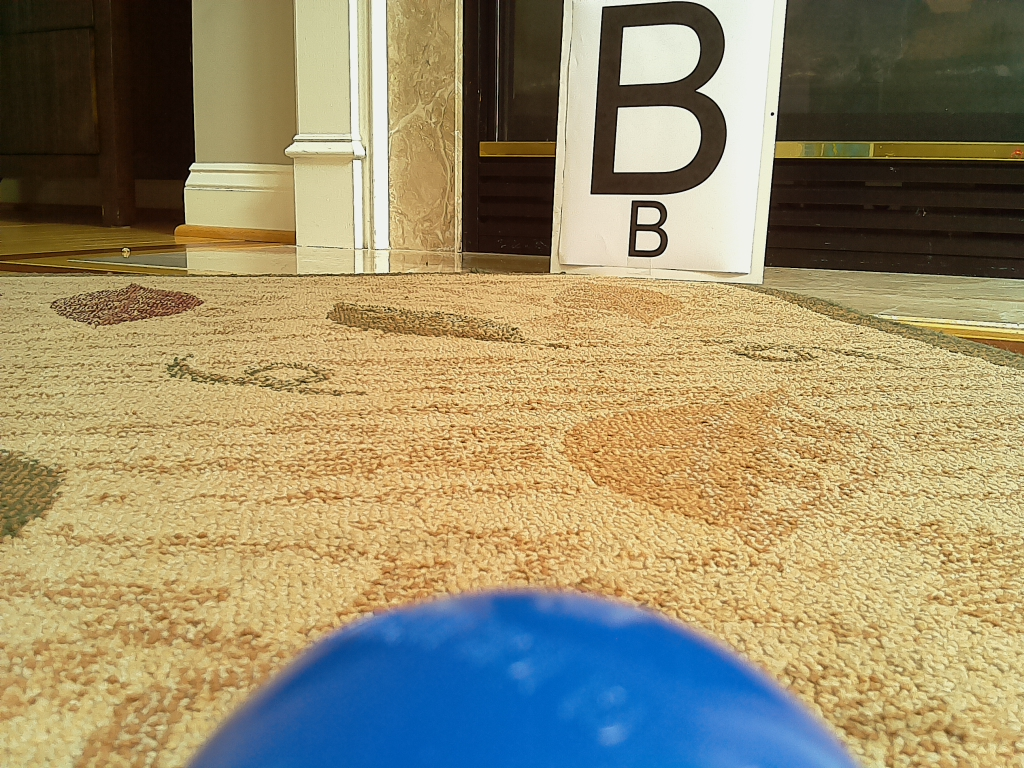letter: (591, 2, 728, 196)
